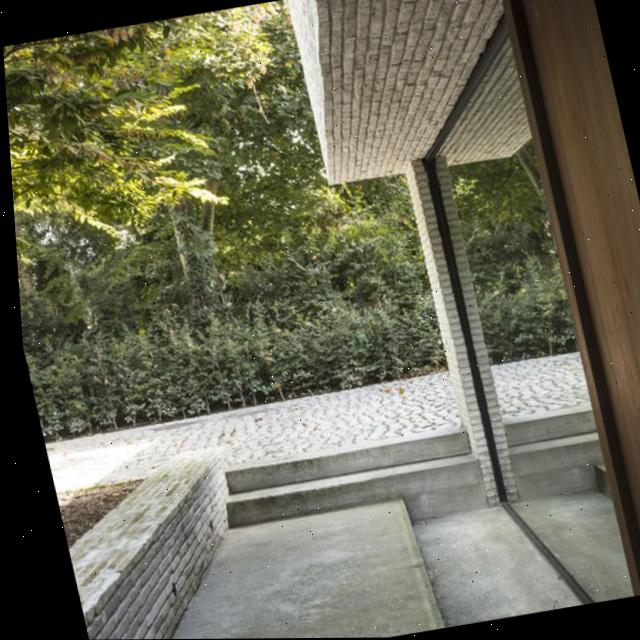building: (284, 0, 640, 632)
